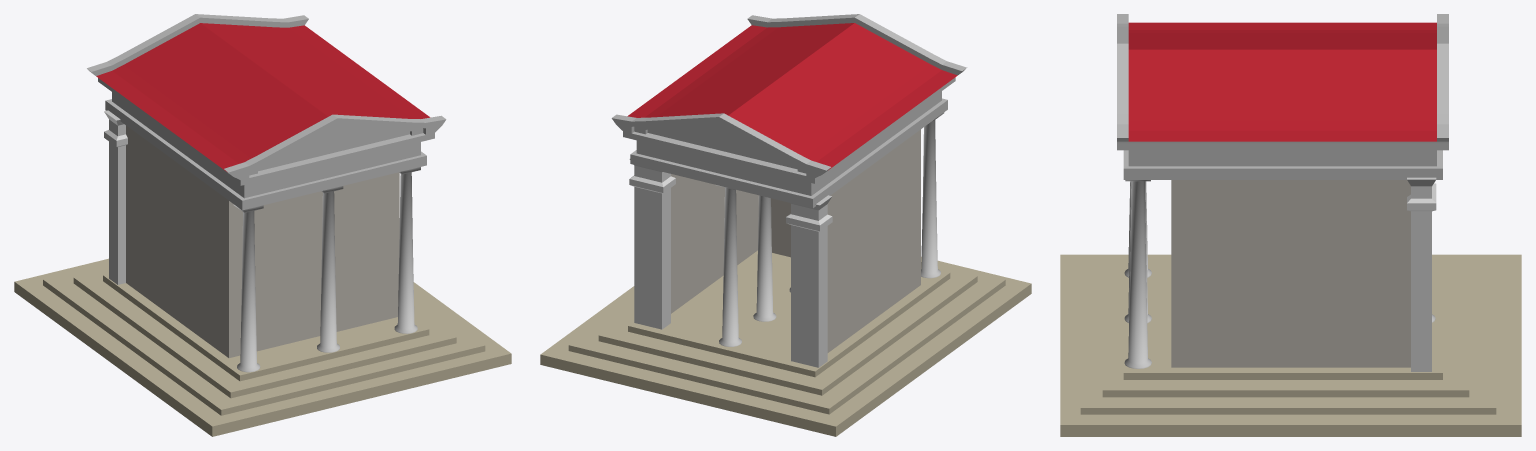
The picture shows the model from 3 angles, left to right: view 1: azimuth 30°, elevation 25°; view 2: azimuth 150°, elevation 25°; view 3: azimuth 270°, elevation 25°; orthographic projection. The views are drawn at different scales.
Parts seen in each view (by area): view 1: Circle_006_Circle_005; view 2: Circle_006_Circle_005; view 3: Circle_006_Circle_005.
Part boxes in pixels (bbox=[...]): Circle_006_Circle_005: bbox=[14, 14, 511, 436]; Circle_006_Circle_005: bbox=[540, 14, 1031, 436]; Circle_006_Circle_005: bbox=[1060, 14, 1521, 436].
Bounding box in the file's own units: 5.48 × 4.63 × 6.28.
